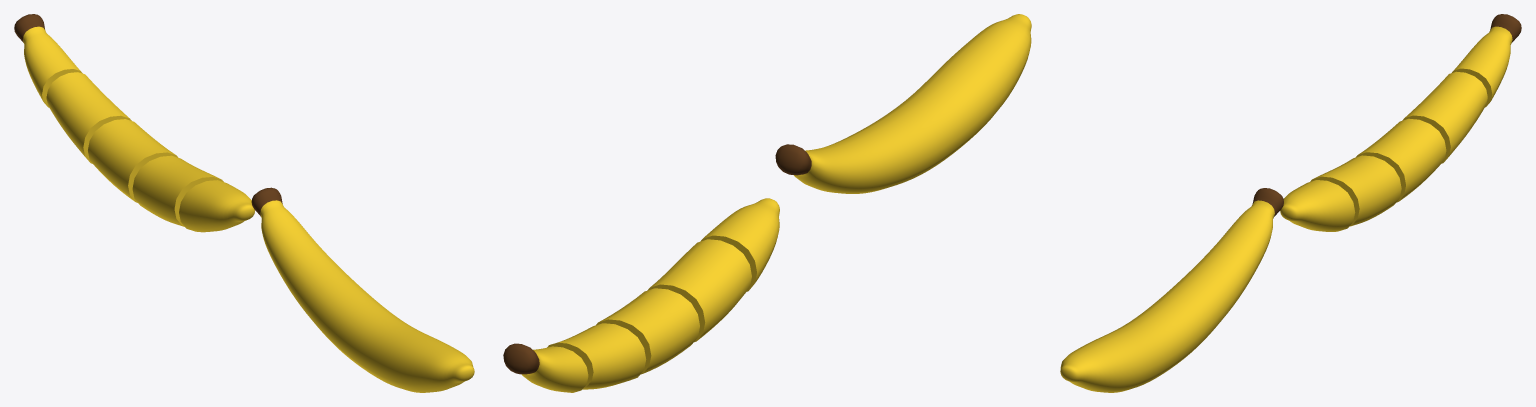
File: plátano.fbx
3 views of the same model, side by side, from view 1: azimuth 30°, elevation 25°; view 2: azimuth 150°, elevation 25°; view 3: azimuth 330°, elevation 25° (orthographic). The views are drawn at different scales.
Visible parts, largest first — view 1: Platano, Platano_Trozo_3, Platano_Trozo_4, Platano_Trozo_2, Platano_Trozo_1, Platano_Trozo_5; view 2: Platano, Platano_Trozo_2, Platano_Trozo_3, Platano_Trozo_4, Platano_Trozo_1, Platano_Trozo_5; view 3: Platano, Platano_Trozo_3, Platano_Trozo_4, Platano_Trozo_2, Platano_Trozo_1, Platano_Trozo_5.
Part boxes in pixels (x1,y1,x2,y2): Platano: [251, 187, 474, 392]; Platano_Trozo_3: [88, 119, 177, 202]; Platano_Trozo_4: [46, 72, 131, 163]; Platano_Trozo_2: [132, 155, 223, 226]; Platano_Trozo_1: [179, 180, 254, 232]; Platano_Trozo_5: [14, 14, 82, 107]; Platano: [775, 14, 1031, 193]; Platano_Trozo_2: [647, 239, 751, 342]; Platano_Trozo_3: [596, 288, 699, 374]; Platano_Trozo_4: [547, 323, 646, 389]; Platano_Trozo_1: [700, 198, 779, 291]; Platano_Trozo_5: [503, 343, 588, 392]; Platano: [1060, 188, 1283, 392]; Platano_Trozo_3: [1355, 118, 1446, 202]; Platano_Trozo_4: [1402, 71, 1487, 163]; Platano_Trozo_2: [1310, 155, 1401, 226]; Platano_Trozo_1: [1280, 180, 1355, 231]; Platano_Trozo_5: [1452, 14, 1521, 107].
Size of the model in its own units: 44.47 by 71.15 by 598.
